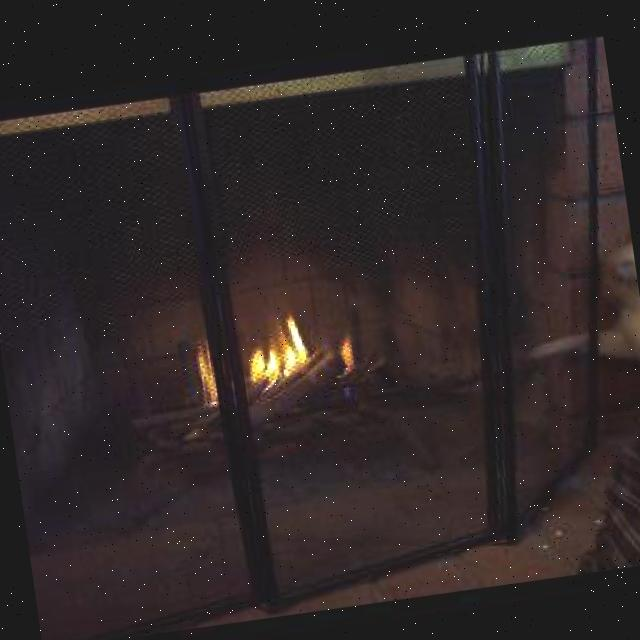fire: (182, 296, 366, 407)
